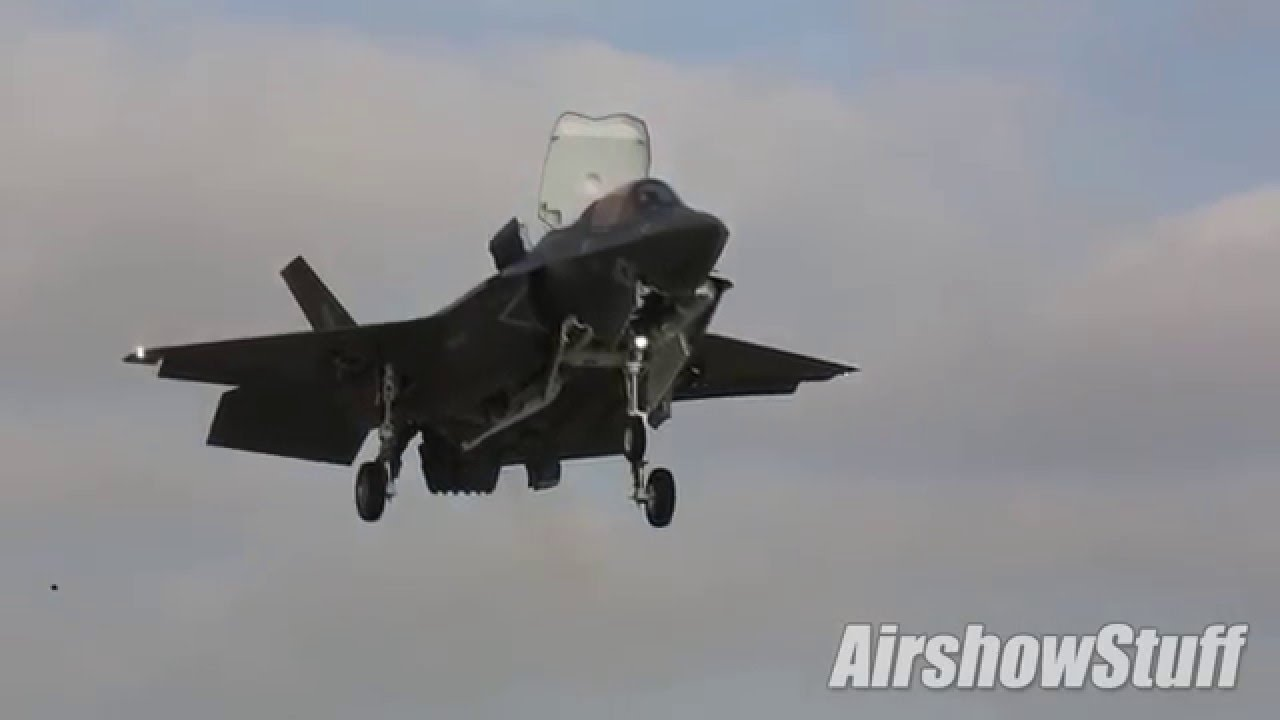F35: (114, 100, 865, 537)
